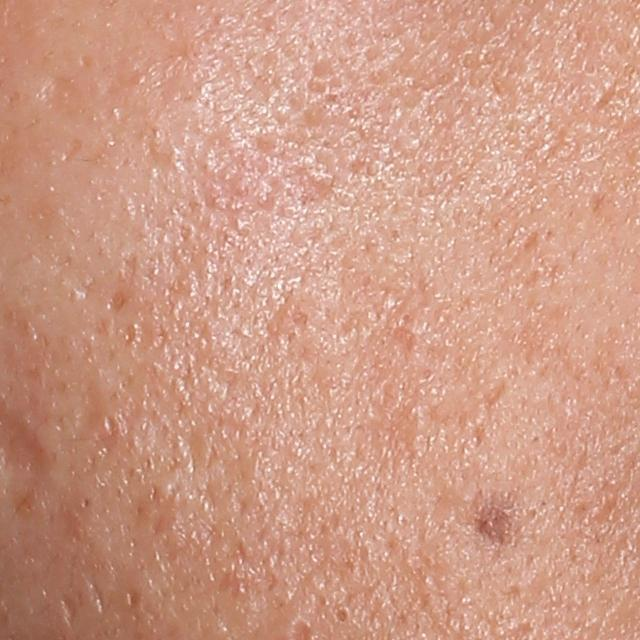atrophic_scar: (358, 385, 420, 474), (30, 75, 82, 116), (80, 579, 109, 631), (389, 313, 417, 360), (55, 594, 77, 629), (484, 380, 509, 408), (518, 228, 538, 253)
comedo: (328, 603, 353, 629)
nevus: (470, 495, 515, 554)
